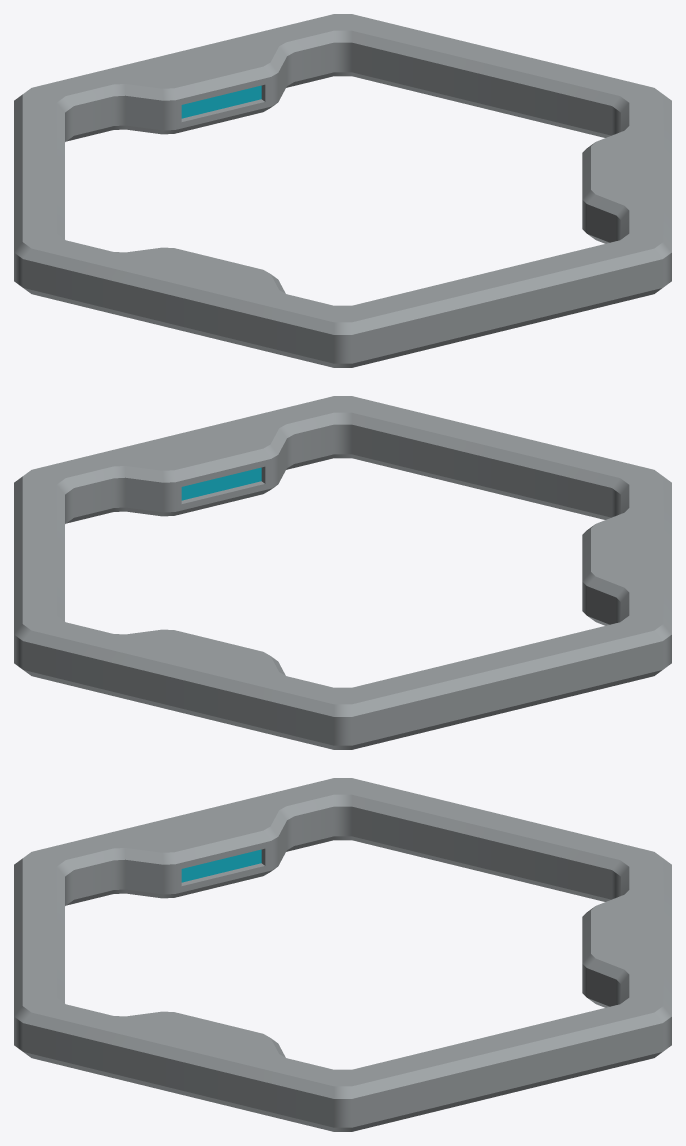
File: obstacle_14_001.fbx
The picture shows the model from 3 angles, top to bottom: view 1: azimuth 30°, elevation 25°; view 2: azimuth 150°, elevation 25°; view 3: azimuth 270°, elevation 25°; orthographic projection.
Parts seen in each view (by area): view 1: obstacle_14_001; view 2: obstacle_14_001; view 3: obstacle_14_001.
Boxes of the visible parts, x1,y1,x2,y2 form: obstacle_14_001: (14,14,671,367); obstacle_14_001: (14,396,671,749); obstacle_14_001: (14,778,671,1131).
Size of the model in its own units: 592 by 520 by 39.75.
